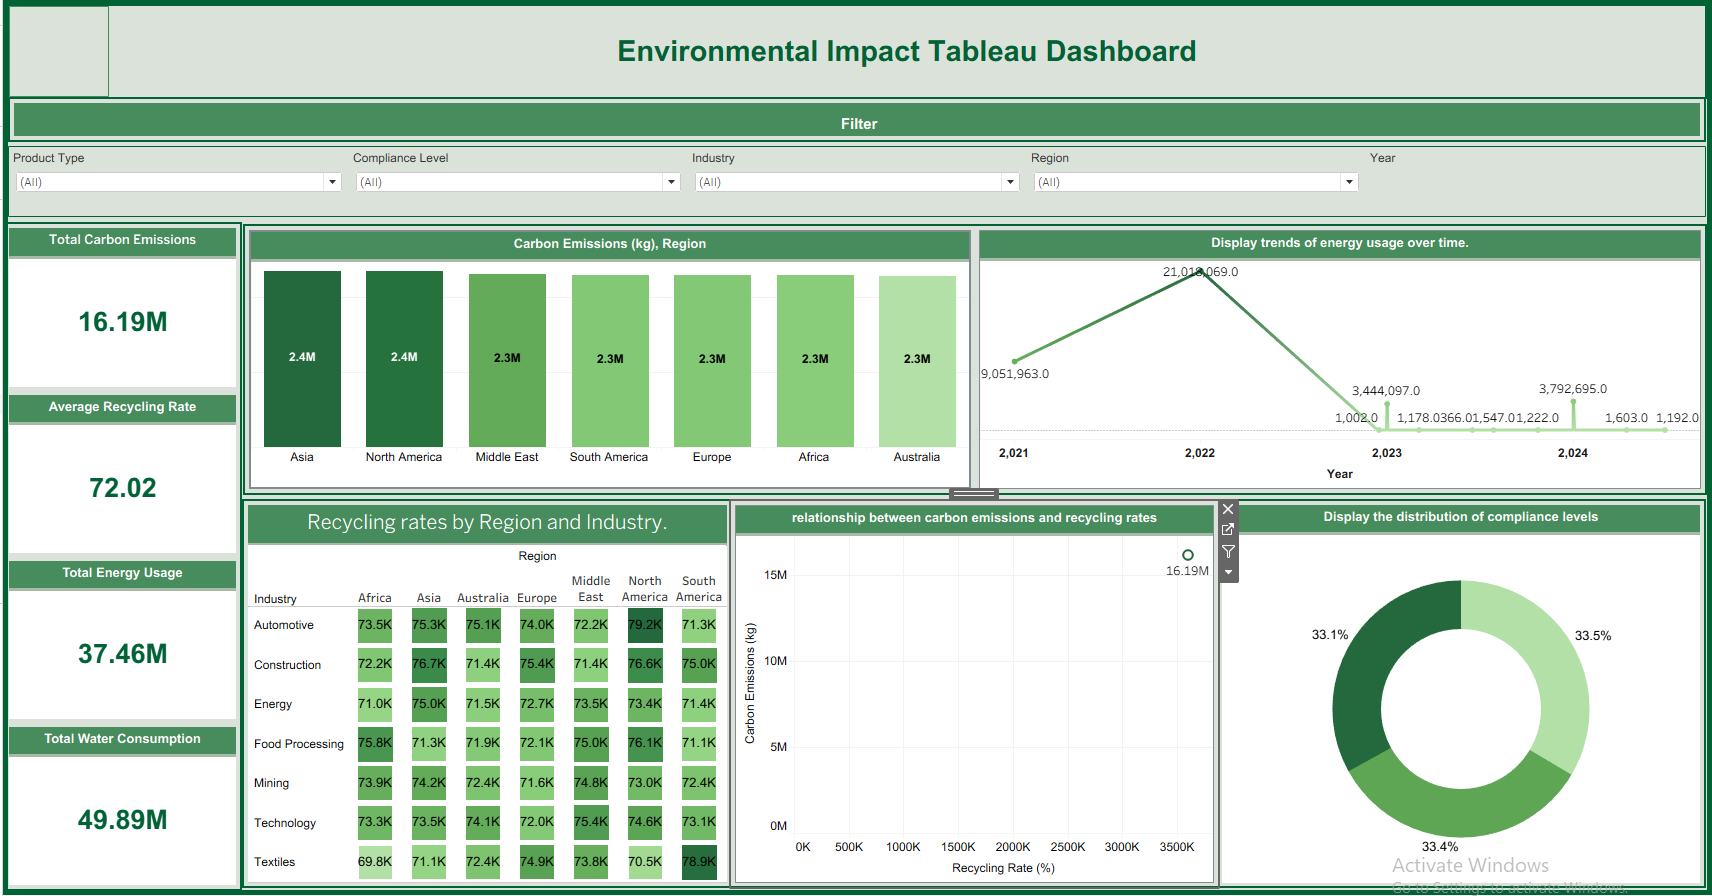

What the dashboard file says about the page in this screenshot:
{"tool":"tableau","page":{"name":"Dashboard 1","canvas":[1000,1000],"units":"permille","ordinal":0},"visuals":[{"type":"image","param":"C:/Users/adity/OneDrive/Pictures/DASHBOARD LOGO.jpg","box":[3.9,8.9,81.4,100.2]},{"type":"text","box":[85.3,8.9,910.2,100.2]},{"type":"worksheet","title":"Filter","mark":"Automatic","box":[4.5,112.9,990.4,44.1]},{"type":"filter","title":"Filter","param":"[federated.0yo5a4p09nz86p1e7jph9193qufb].[none:Product Type:nk]","box":[4.1,164.4,198.5,77.6]},{"type":"filter","title":"Filter","param":"[federated.0yo5a4p09nz86p1e7jph9193qufb].[none:Compliance Level:nk]","box":[202.6,164.4,198.5,77.6]},{"type":"filter","title":"Filter","param":"[federated.0yo5a4p09nz86p1e7jph9193qufb].[none:Industry:nk]","box":[401.1,164.4,198.5,77.6]},{"type":"filter","title":"Filter","param":"[federated.0yo5a4p09nz86p1e7jph9193qufb].[none:Region:nk]","box":[599.7,164.4,198.5,77.6]},{"type":"filter","title":"Filter","param":"[federated.0yo5a4p09nz86p1e7jph9193qufb].[none:Year:qk]","box":[798.2,164.4,197.7,77.6]},{"type":"worksheet","title":"Total Carbon Emissions","mark":"Automatic","box":[1.6,251.1,136.7,185.7]},{"type":"worksheet","title":"Carbon Emissions (kg), Region (bar chart)","mark":"Automatic","rows":["Carbon Emissions (kg)"],"cols":["Region"],"box":[141.6,254.2,427.2,296.8]},{"type":"worksheet","title":"Display trends of energy usage over time.","mark":"Automatic","rows":["Energy Usage (kWh)"],"cols":["Year"],"box":[568.8,254.2,426.4,296.8]},{"type":"worksheet","title":"Average Recycling Rate","mark":"Automatic","box":[1.6,436.8,136.7,185.7]},{"type":"worksheet","title":" Recycling rates by Region and Industry.","mark":"Automatic","rows":["Industry"],"cols":["Region"],"box":[141.6,561.6,284.8,427.7]},{"type":"worksheet","title":" relationship between carbon emissions and recycling rates","mark":"Automatic","rows":["Carbon Emissions (kg)"],"cols":["Recycling Rate (%)"],"box":[426.4,561.6,284.8,427.7]},{"type":"worksheet","title":"Display the distribution of compliance levels","mark":"Pie","rows":["Calculation_269934564872425472","Calculation_269934564872425472"],"box":[711.1,561.6,284,427.7]},{"type":"worksheet","title":"Total Energy Usage","mark":"Automatic","box":[1.6,622.5,136.7,185.7]},{"type":"worksheet","title":"Total Water Consumption","mark":"Automatic","box":[1.6,808.2,136.7,184.2]}]}

Visuals, with their boxes on the dashboard's canvas, which has no fixed pixel size, in thousandths of its width and height (x1, y1, x2, y2). These are canvas units, not pixel positions in the 1712x896 screenshot, which may show the page scaled, cropped or inside an application window:
image: Rect(4, 9, 85, 109)
text: Rect(85, 9, 996, 109)
"Filter" worksheet: Rect(4, 113, 995, 157)
"Filter" filter: Rect(4, 164, 203, 242)
"Filter" filter: Rect(203, 164, 401, 242)
"Filter" filter: Rect(401, 164, 600, 242)
"Filter" filter: Rect(600, 164, 798, 242)
"Filter" filter: Rect(798, 164, 996, 242)
"Total Carbon Emissions" worksheet: Rect(2, 251, 138, 437)
"Carbon Emissions (kg), Region (bar chart)" worksheet: Rect(142, 254, 569, 551)
"Display trends of energy usage over time." worksheet: Rect(569, 254, 995, 551)
"Average Recycling Rate" worksheet: Rect(2, 437, 138, 622)
" Recycling rates by Region and Industry." worksheet: Rect(142, 562, 426, 989)
" relationship between carbon emissions and recycling rates" worksheet: Rect(426, 562, 711, 989)
"Display the distribution of compliance levels" worksheet (Pie marks): Rect(711, 562, 995, 989)
"Total Energy Usage" worksheet: Rect(2, 622, 138, 808)
"Total Water Consumption" worksheet: Rect(2, 808, 138, 992)
